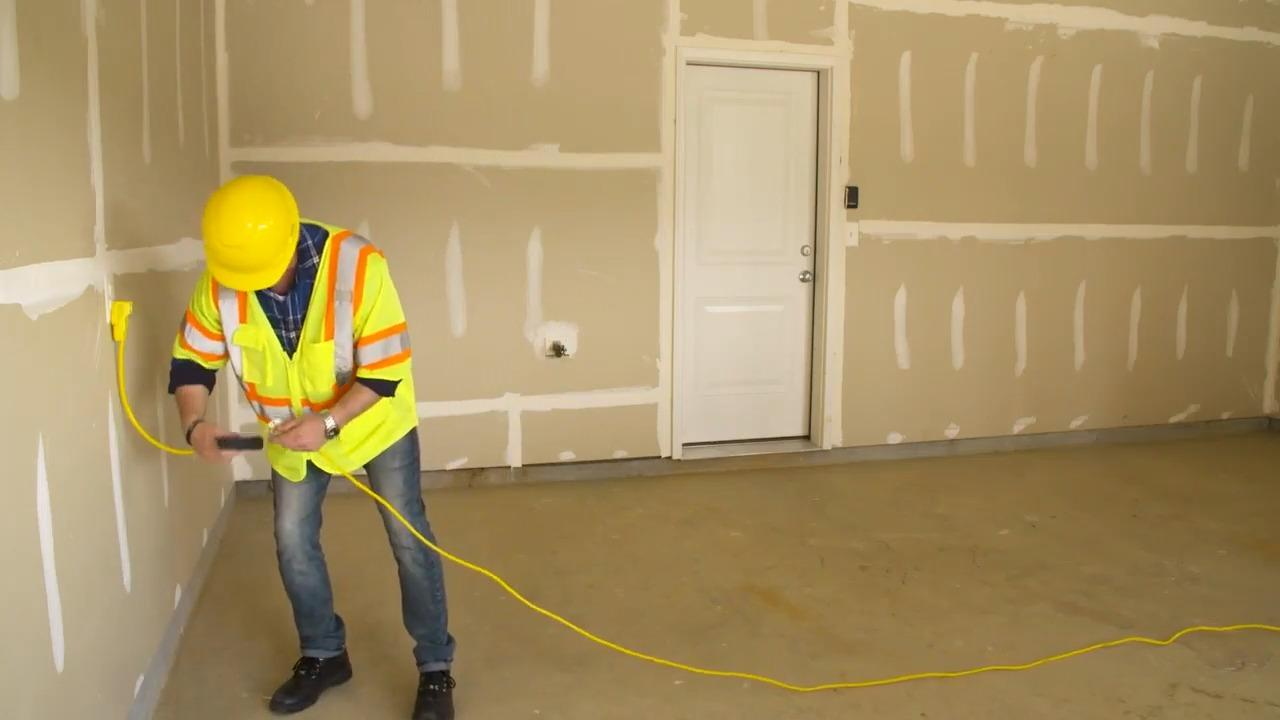Helmet: (200, 173, 301, 293)
Person: (162, 158, 452, 714)
Safety Boot: (268, 647, 352, 713), (411, 669, 456, 719)
Safety Vest: (169, 217, 419, 481)
bare-arms: (186, 418, 257, 464), (273, 414, 329, 459)
